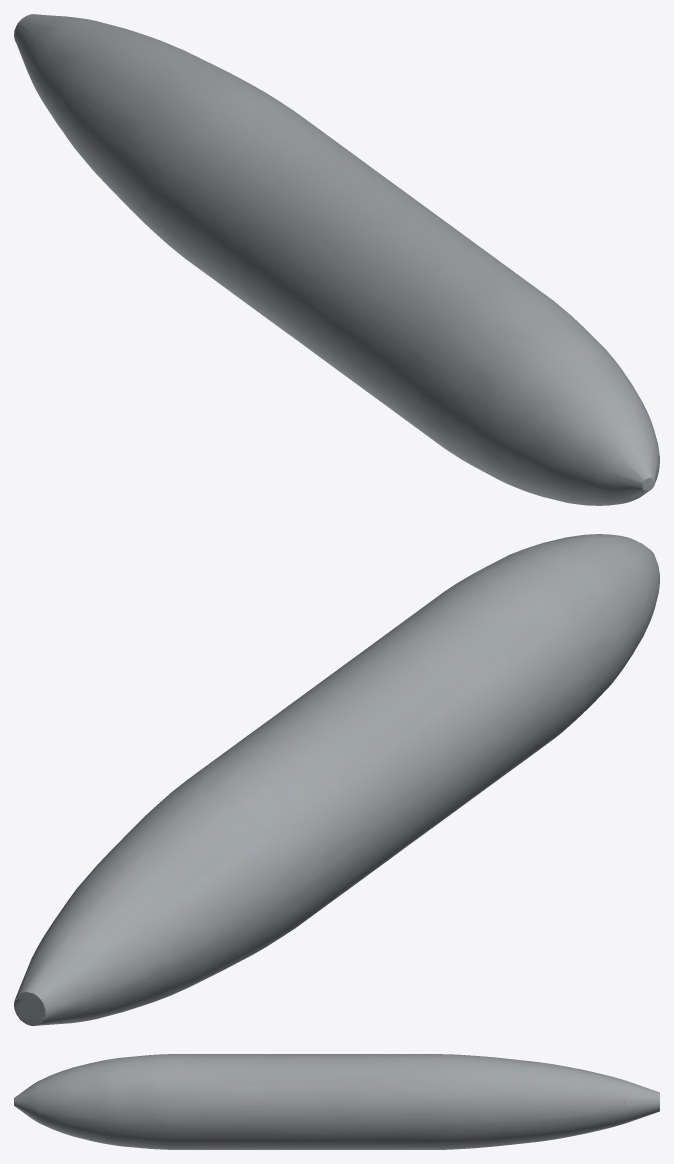
The model's file is fpu11.glb.
3 renders of one model, top to bottom at view 1: azimuth 30°, elevation 25°; view 2: azimuth 150°, elevation 25°; view 3: azimuth 270°, elevation 25°, orthographic. The views are drawn at different scales.
Parts seen in each view (by area): view 1: airframe; view 2: airframe; view 3: airframe.
Boxes of the visible parts, x1=… form: airframe: x1=14, y1=14, x2=659, y2=505; airframe: x1=14, y1=534, x2=659, y2=1025; airframe: x1=14, y1=1054, x2=659, y2=1149.
Bounding box in the file's own units: 0.8104 × 0.8105 × 5.46.
Materials: 1 (1 with a texture image).
